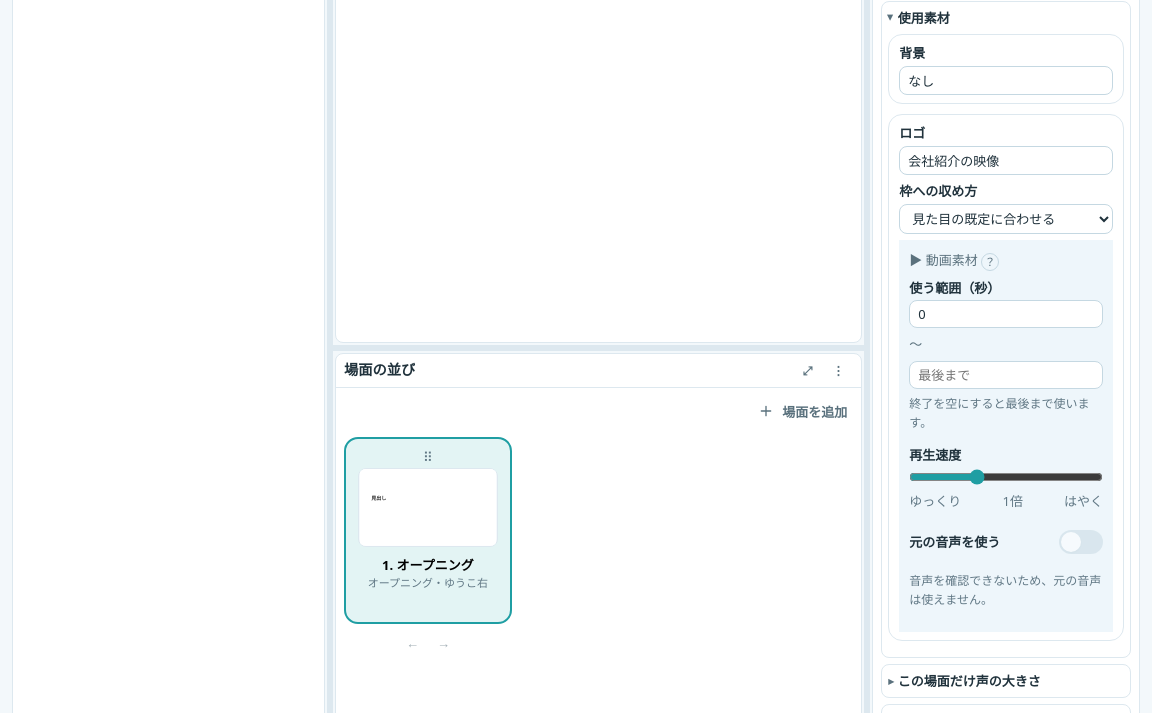
差し込み口の素材を見て選ぶ（#1031） › この口には入れられない素材が入っているときは、その理由を出す
The width and height of the screenshot is (1152, 713).
(page scrolled)
Check: the label "ロゴ" is shown, box [899,124,925,142]
Click the button "会社紹介の映像" at (1006, 160), box [899,146,1113,175]
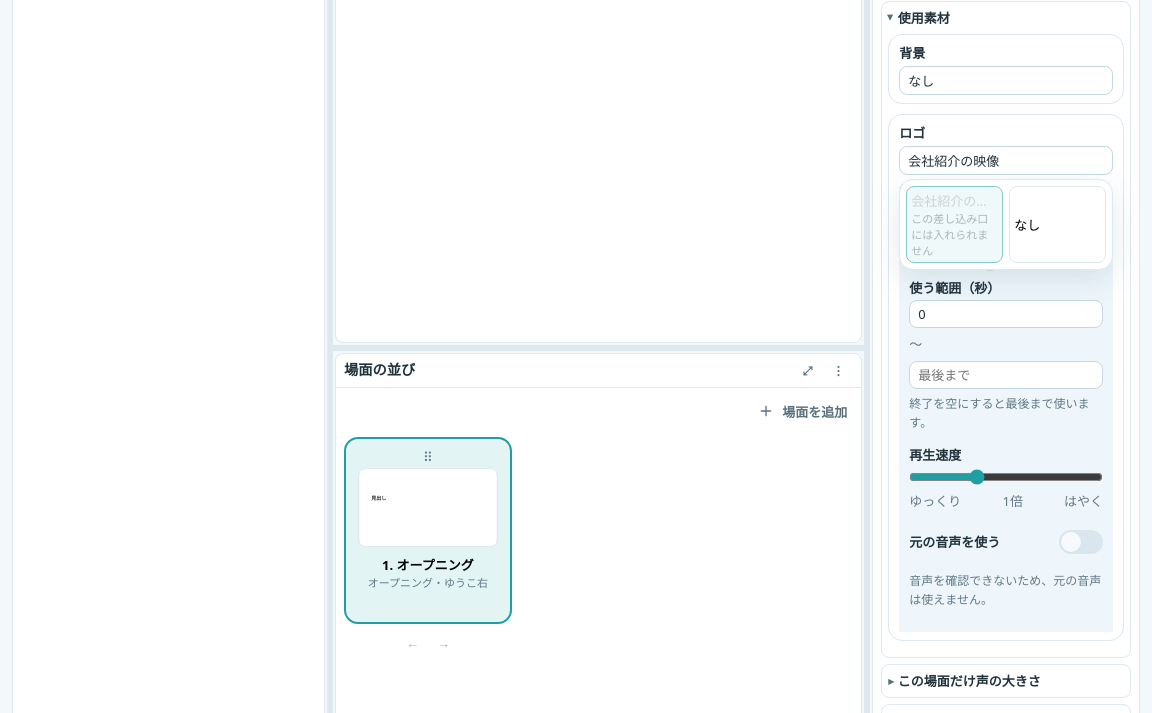
Check: the button "会社紹介の映像 この差し込み口には入れられません" is disabled, box [906,186,1003,263]
